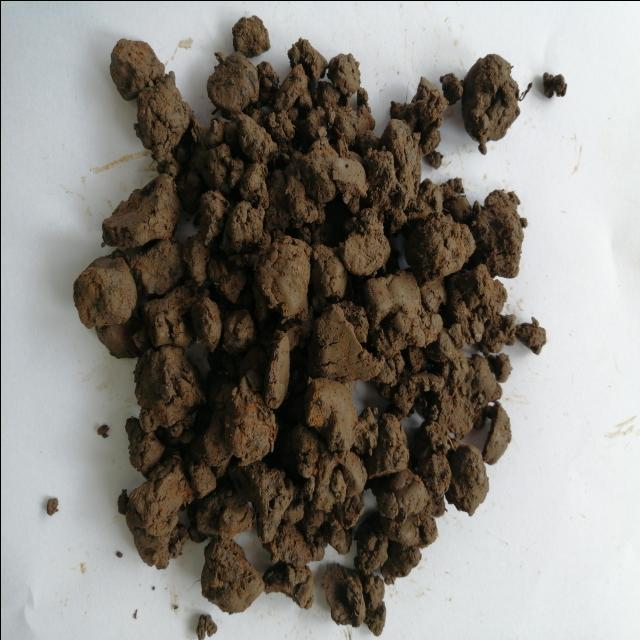soil: (122, 164, 472, 576)
